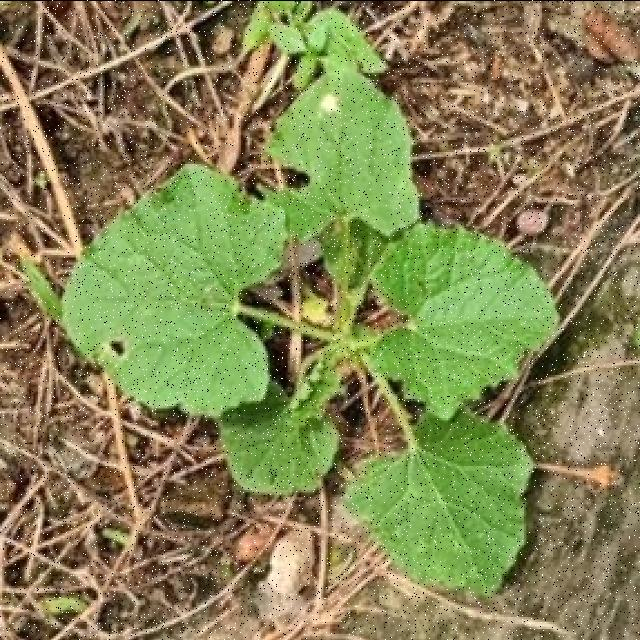plant: (22, 65, 559, 594)
